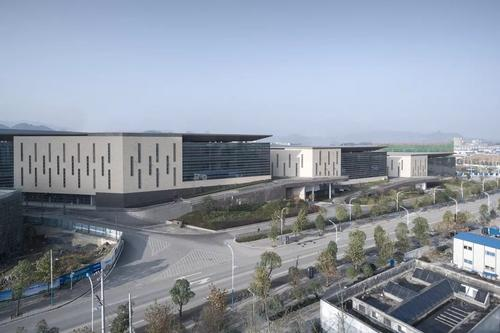buildings: (23, 130, 279, 196)
sky_cloud: (13, 36, 500, 122)
